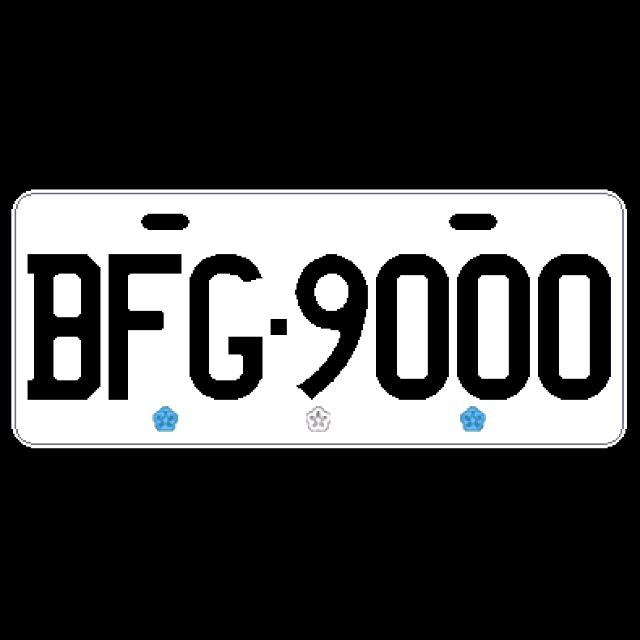plate: (8, 186, 630, 450)
